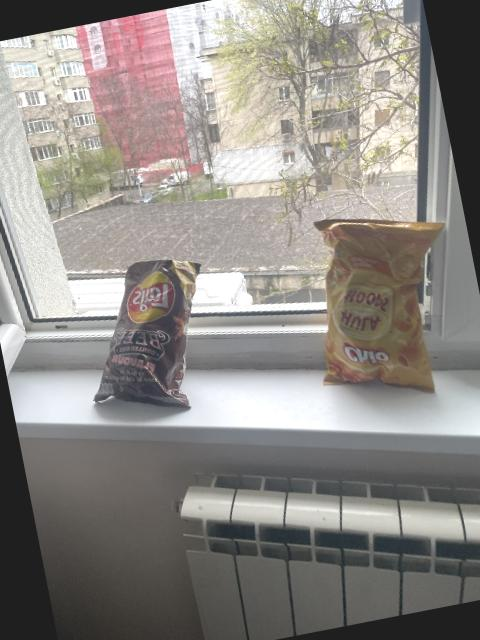Chio Hula Hoops Cheese 70g: (292, 200, 478, 412)
Lays Beef Grilled Ribs 125g: (69, 251, 224, 424)
